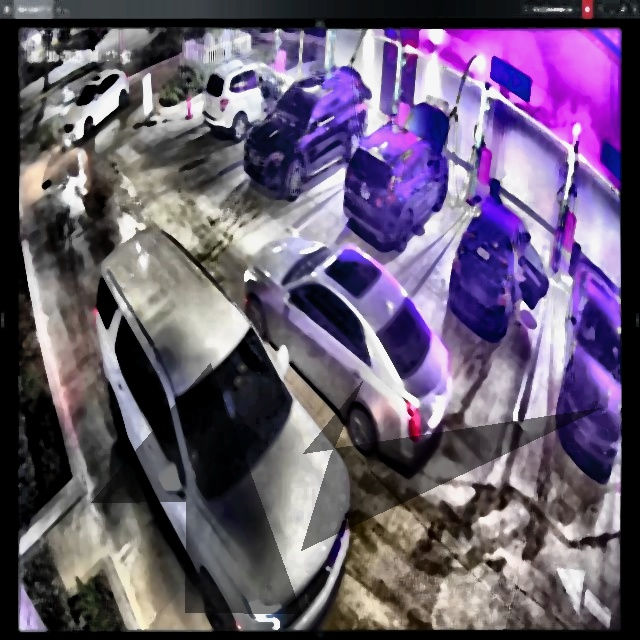Car: (93, 229, 349, 629), (255, 228, 450, 464), (253, 70, 370, 196), (351, 97, 447, 246), (459, 191, 546, 334)
